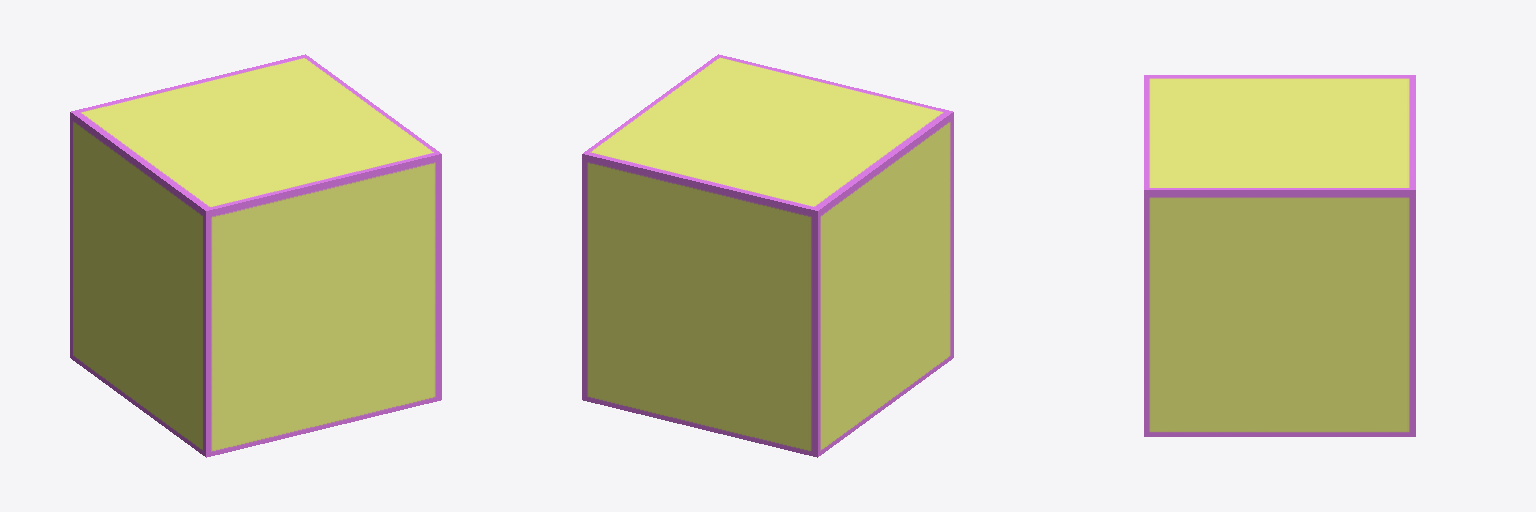
The picture shows the model from 3 angles: view 1: azimuth 30°, elevation 25°; view 2: azimuth 150°, elevation 25°; view 3: azimuth 270°, elevation 25°; orthographic projection.
Visible parts, largest first — view 1: 立方体; view 2: 立方体; view 3: 立方体.
Part boxes in pixels (x1,y1,x2,y2): 立方体: (70,54,441,457); 立方体: (582,54,953,457); 立方体: (1144,75,1415,436).
Bounding box in the file's own units: 2 × 2 × 2.
Materials: 1 (1 with a texture image).